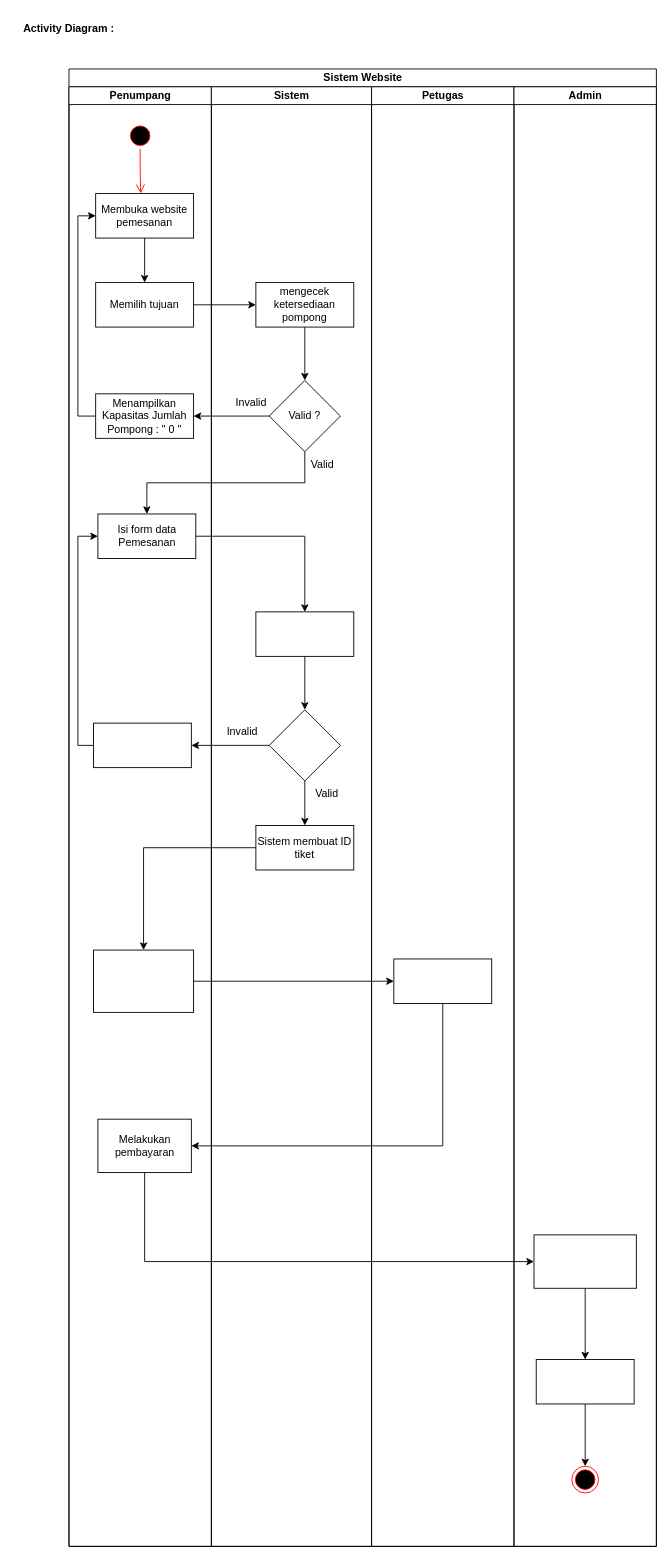
This 672x1562 diagram has some shape labels left out. Here are the shapes that lost their labels. From the top down, the centre of each, then its label:
point (304, 633): validasi data
point (142, 745): Menerima pesan "Gagal, isi ulang"
point (304, 745): Valid?
point (143, 980): Menerima Tiket dan memberikan ke petugas
point (442, 980): memeriksa tiket sesuai kode & data penumpang
point (584, 1261): membuat laporan berdasarkan data penjualan
point (584, 1381): mencetak laporan
